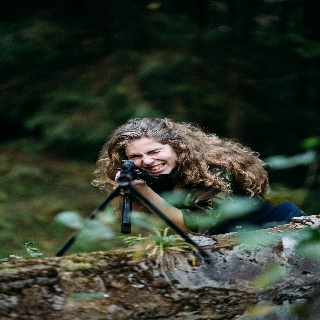rifle: (57, 155, 211, 268)
